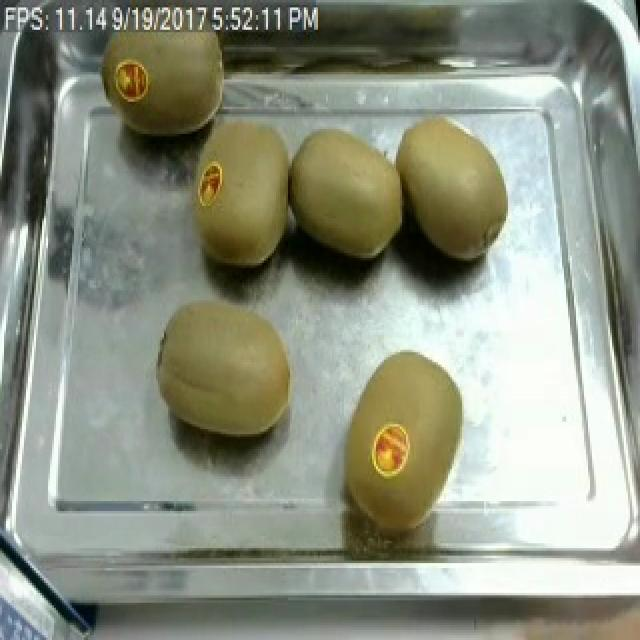Fruit: (328, 340, 478, 538), (150, 288, 302, 444), (400, 107, 520, 273), (180, 109, 294, 278), (102, 5, 230, 149), (286, 114, 404, 268)
